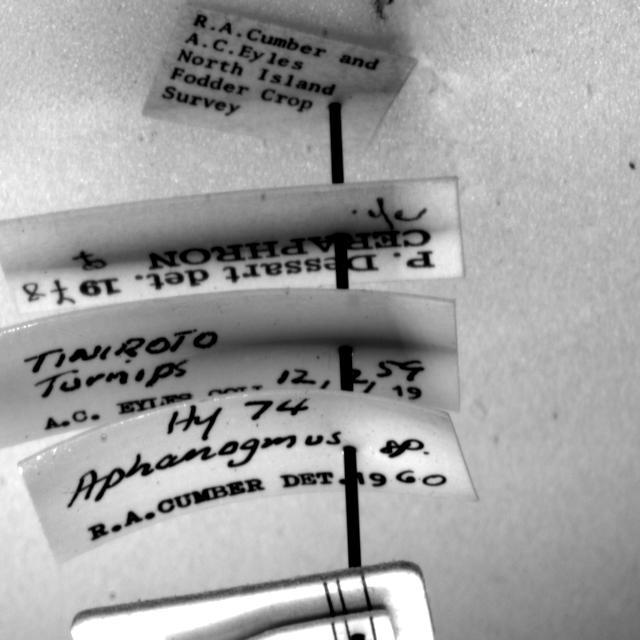mixed_label: (20, 390, 478, 562), (2, 288, 462, 447), (0, 176, 464, 313)
typed_label: (144, 6, 416, 152)
